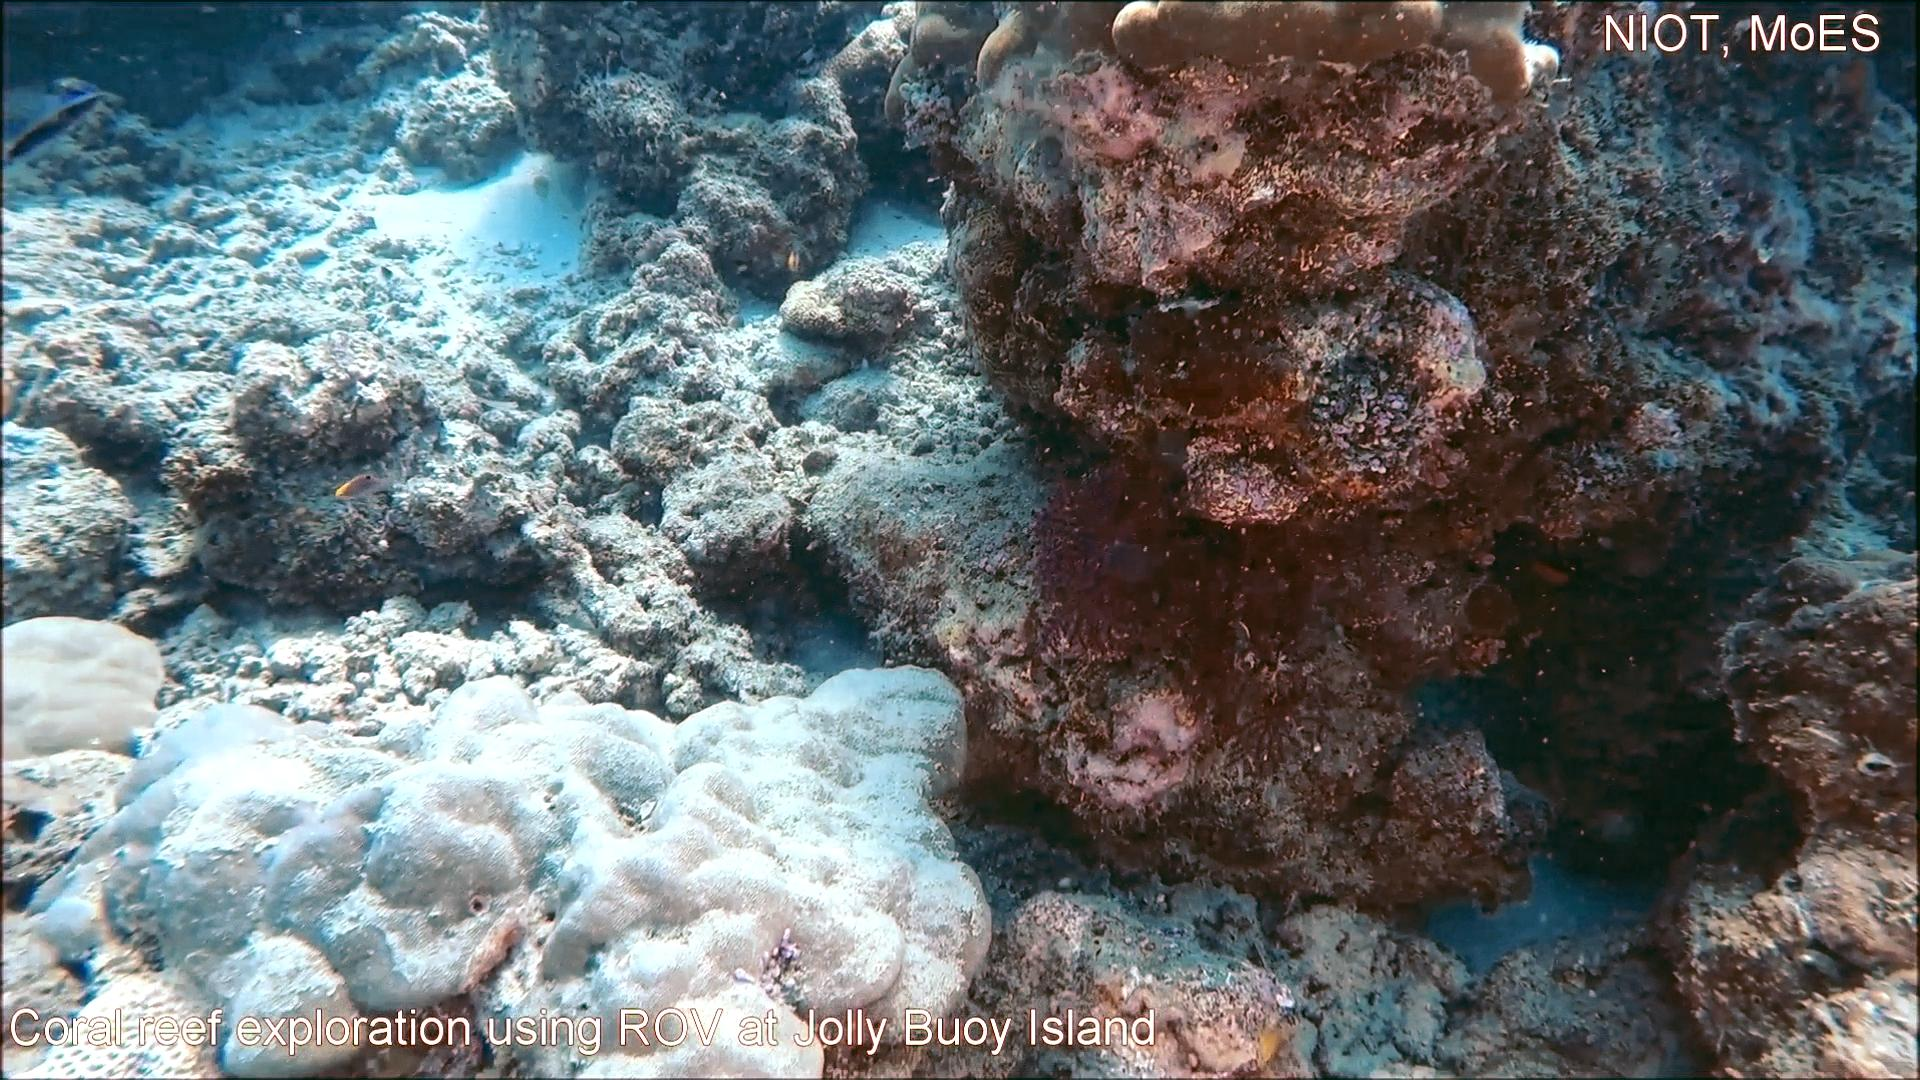Goniastrea-Goniastrea pectinata: (26, 964, 227, 1080)
Gorgonian-Purple Plexaura: (1025, 444, 1390, 787)
Porites-Porites pukoensis: (360, 657, 1002, 1080)
